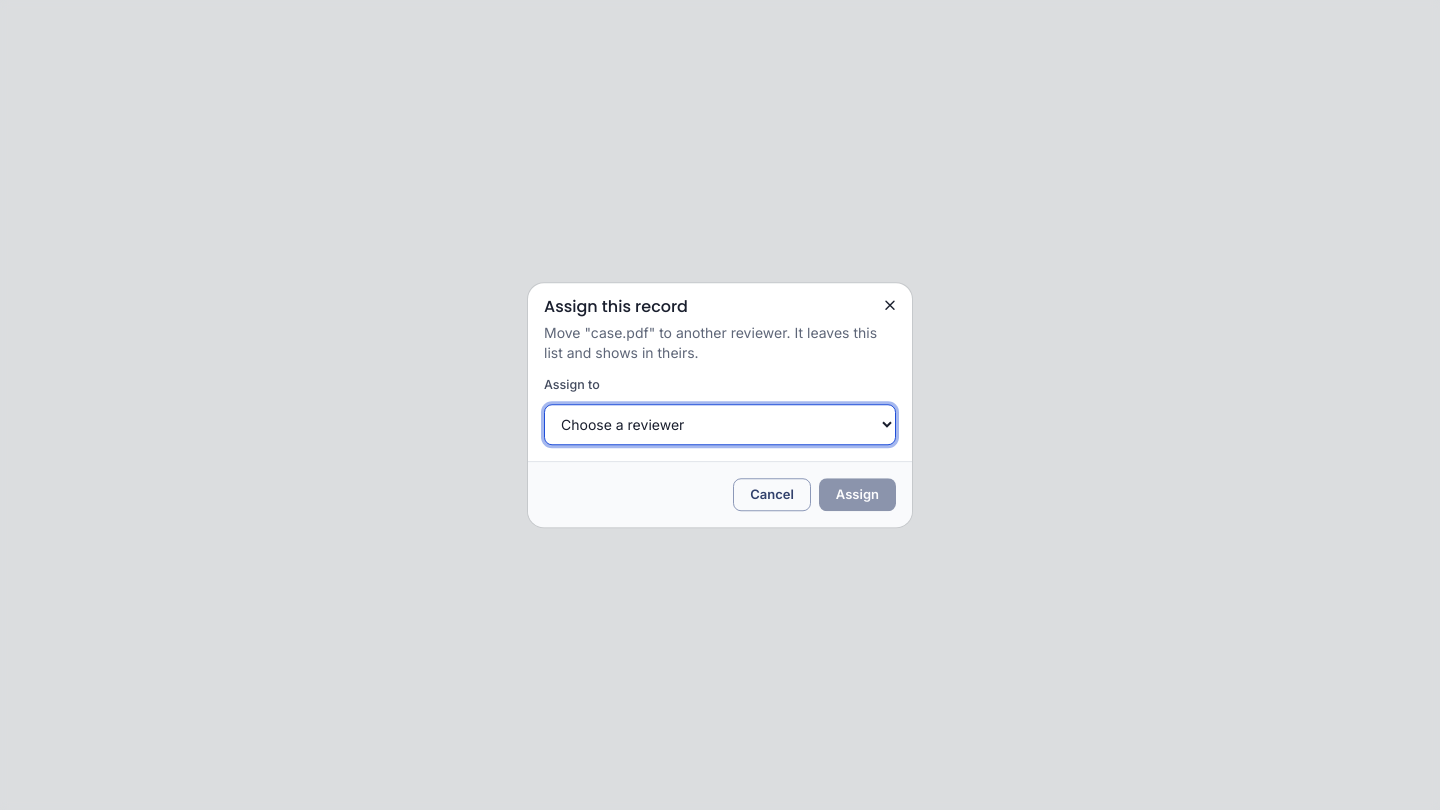
it: AssignDialog › forgets the duplicate warning when a different reviewer is chosen
Select "Adam" in the dropdown labelled "Assign to": point(720, 424) x1=544 y1=404 x2=896 y2=445
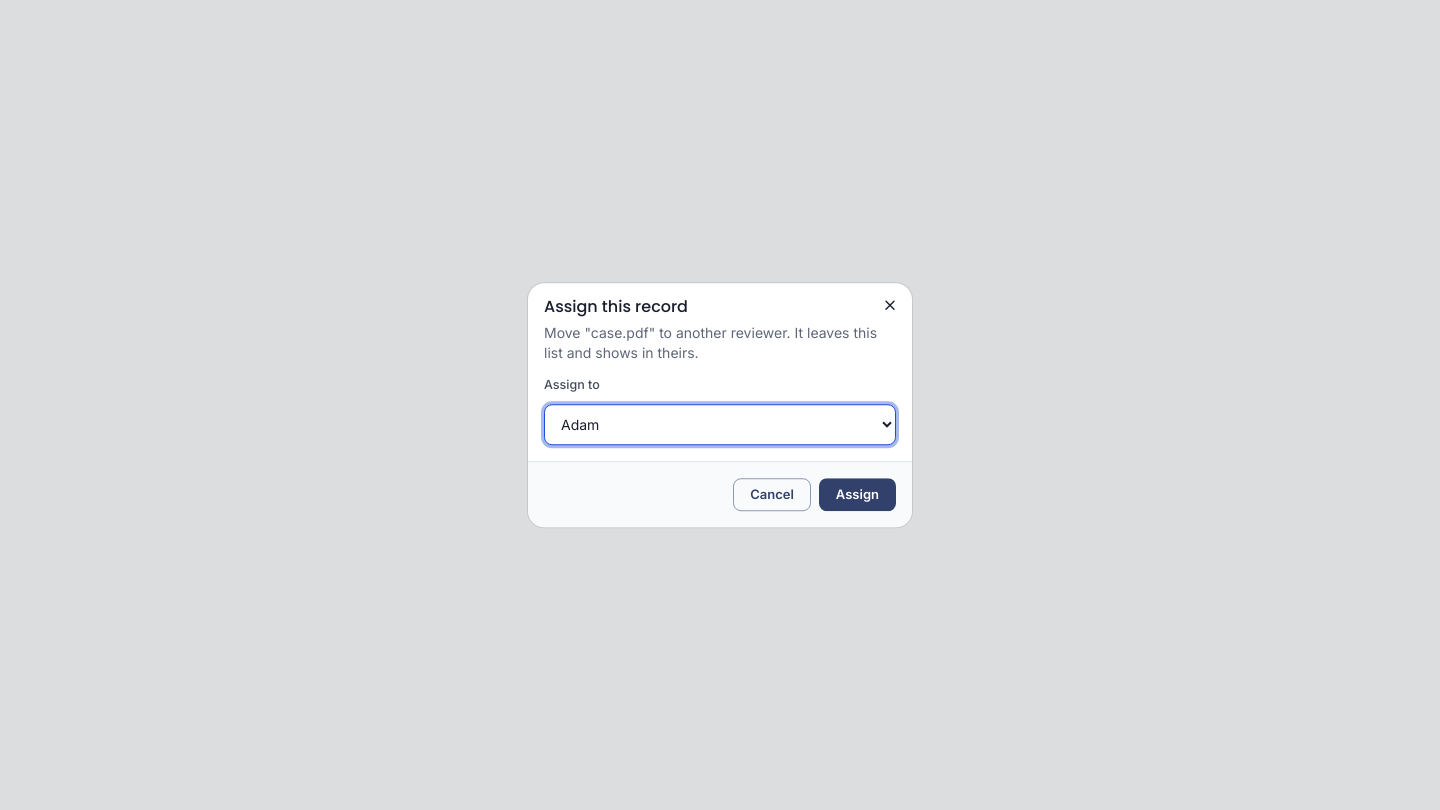
Click the button "Assign": point(857, 494) x1=819 y1=478 x2=896 y2=511
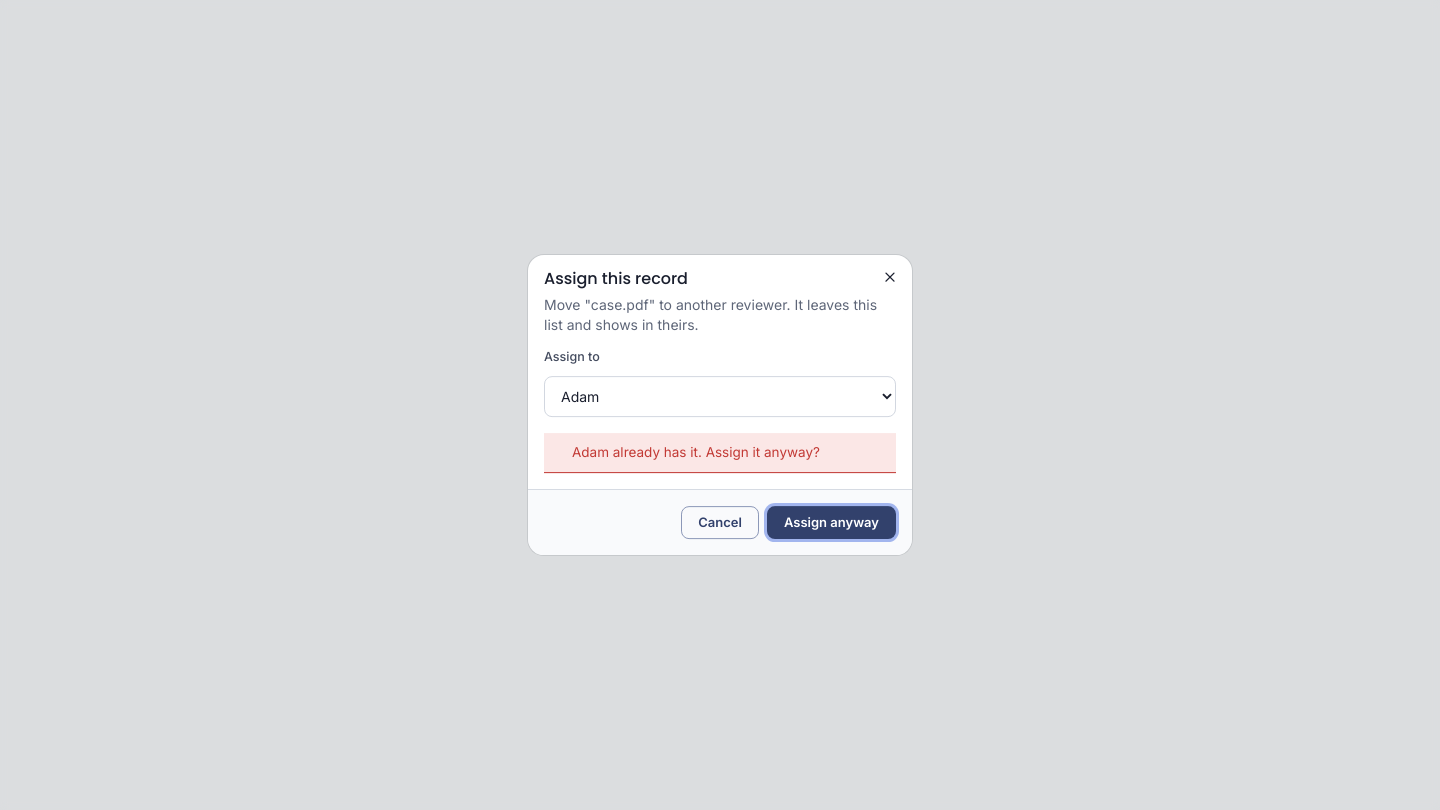
Result: the message "Adam already has it. Assign it anyway?" is shown at x1=544 y1=433 x2=896 y2=473
Select "bernie@example.com" in the dropdown labelled "Assign to": point(720, 396) x1=544 y1=376 x2=896 y2=417
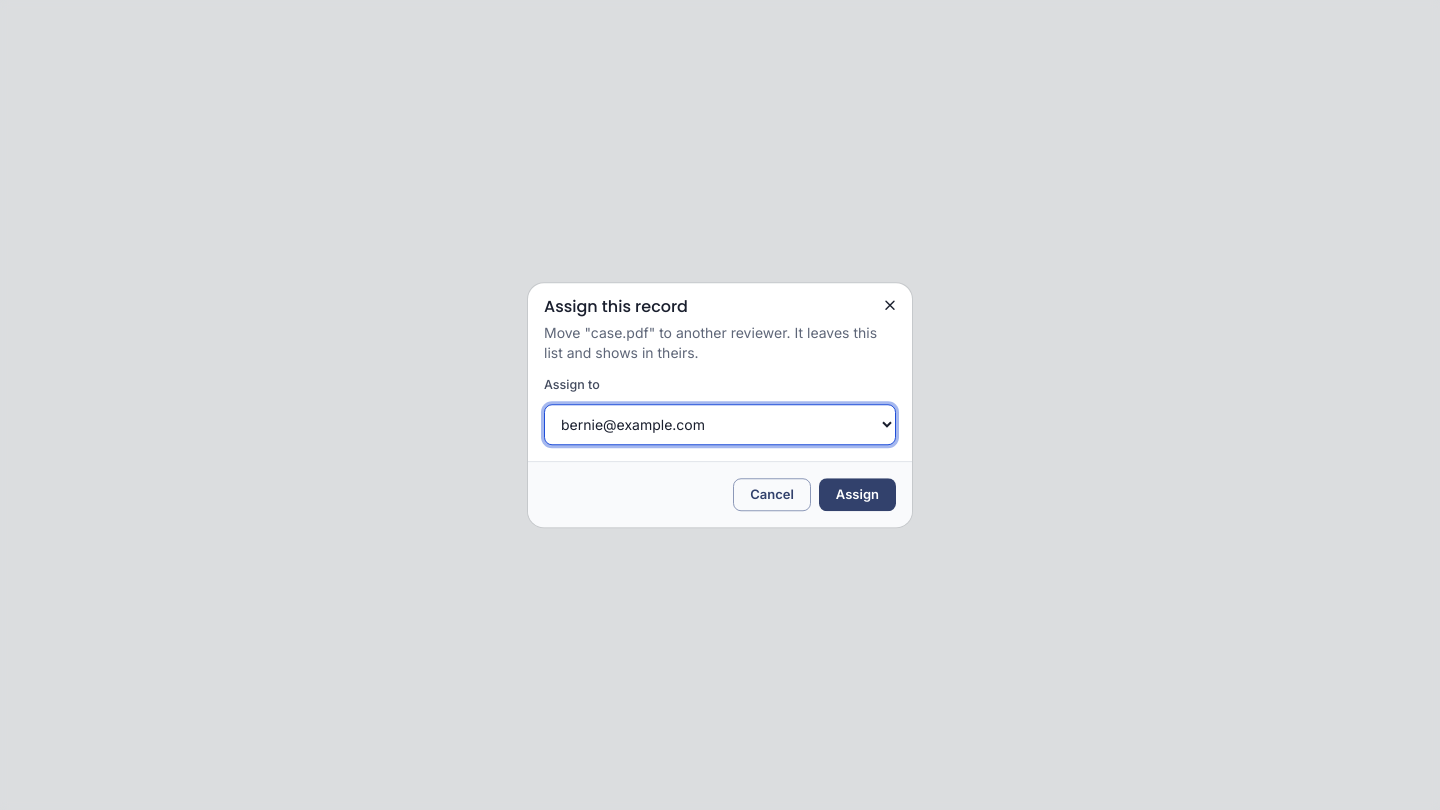
Result: the button "Assign" is enabled at x1=819 y1=478 x2=896 y2=511
Result: the message "Adam already has it. Assign it anyway?" is gone
